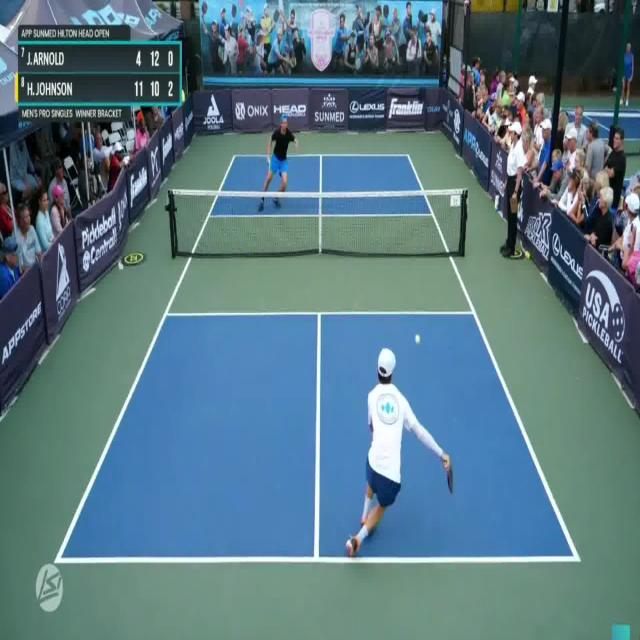ball: (416, 334, 420, 344)
